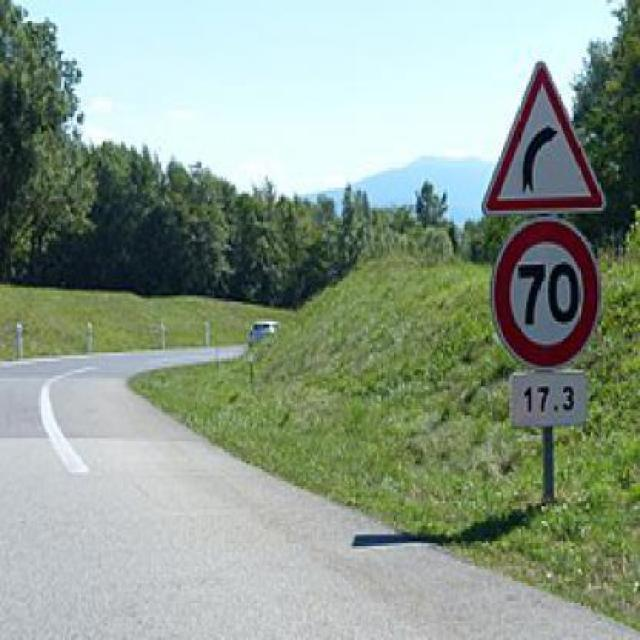forb_speed_over_70: (493, 219, 602, 370)
warn_right_curve: (480, 54, 606, 214)
